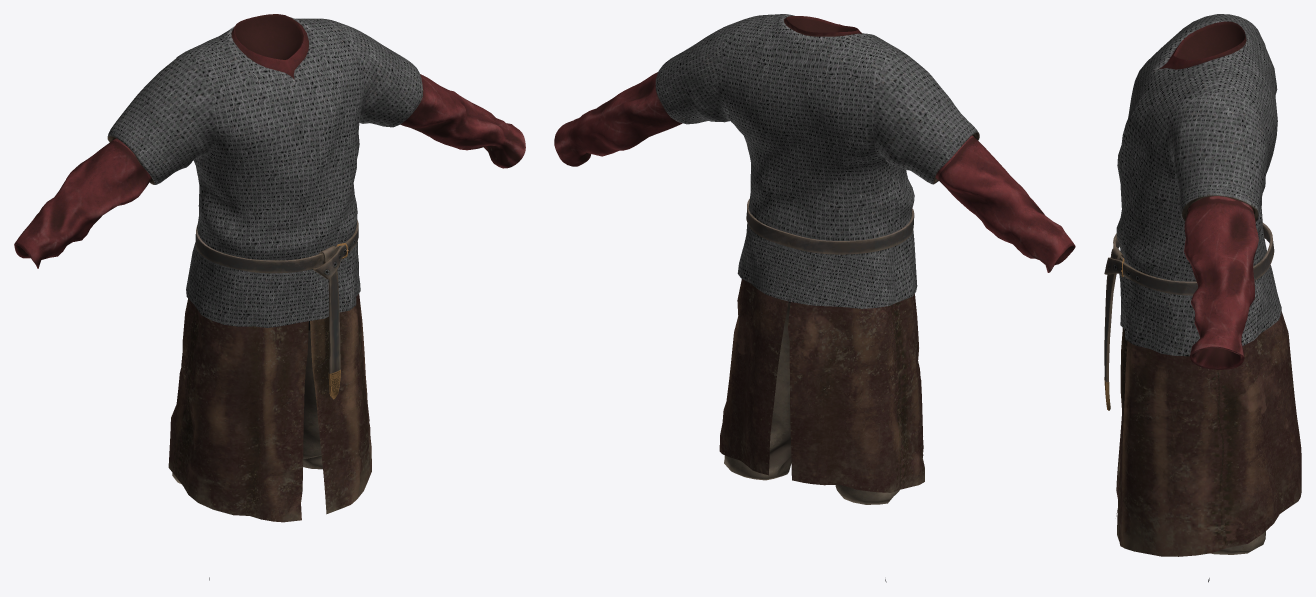
File: cts_rohan_armor3.fbx
The picture shows the model from 3 angles, left to right: view 1: azimuth 30°, elevation 25°; view 2: azimuth 150°, elevation 25°; view 3: azimuth 270°, elevation 25°; orthographic projection. The views are drawn at different scales.
Parts seen in each view (by area): view 1: cts_rohan_armor3; view 2: cts_rohan_armor3; view 3: cts_rohan_armor3.
Part boxes in pixels (x1,y1,x2,y2): cts_rohan_armor3: (14,14,525,580); cts_rohan_armor3: (554,14,1075,582); cts_rohan_armor3: (1104,14,1301,582).
Size of the model in its own units: 1.36 by 0.4323 by 1.4.
Materials: 1 (1 with a texture image).
